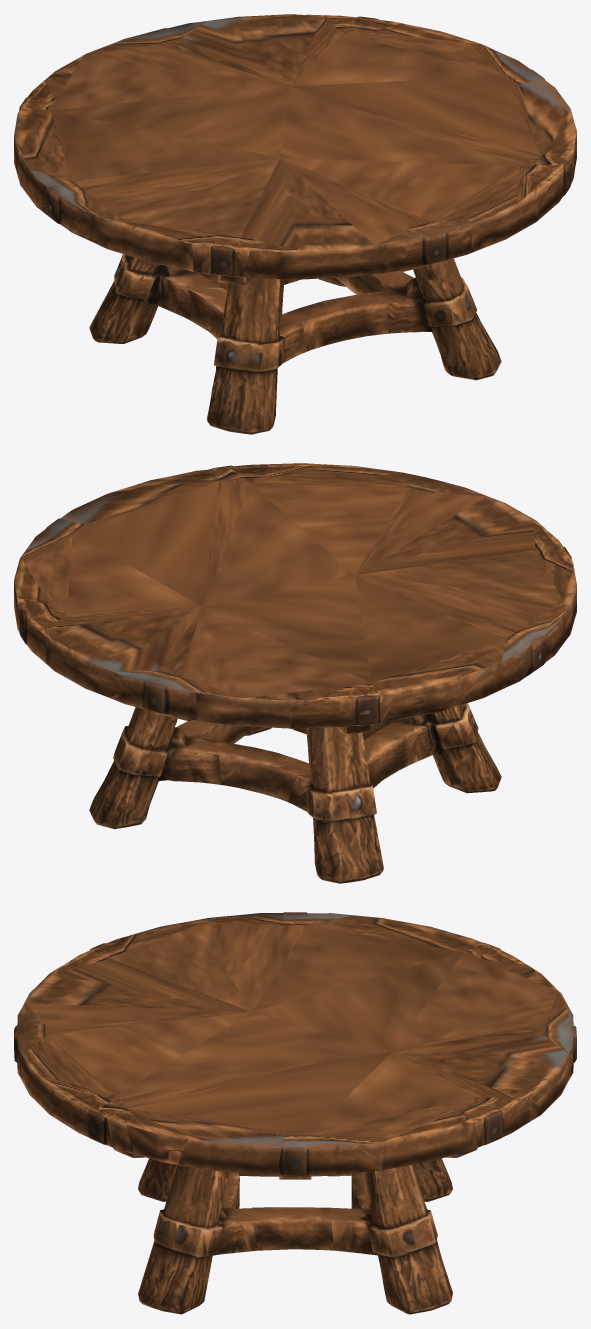
The model's file is World930940d8f6.glb.
3 views of the same model, one above another, from view 1: azimuth 30°, elevation 25°; view 2: azimuth 150°, elevation 25°; view 3: azimuth 270°, elevation 25° (orthographic).
Visible parts, largest first — view 1: World930940d8f6; view 2: World930940d8f6; view 3: World930940d8f6.
Boxes of the visible parts, x1,y1,x2,y2 form: World930940d8f6: [14, 14, 576, 434]; World930940d8f6: [14, 463, 576, 883]; World930940d8f6: [14, 912, 576, 1314].
Size of the model in its own units: 1.8 by 0.7621 by 1.8.
1 material, 1 textured.
